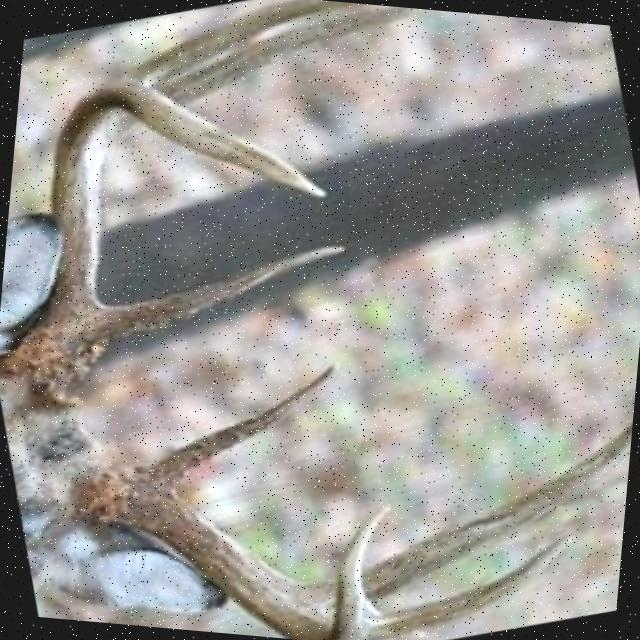L-F: (72, 462, 391, 640)
L-G1: (138, 360, 339, 486)
L-G3: (358, 533, 577, 640)
R-F: (0, 78, 330, 404)
R-G1: (94, 243, 348, 342)
